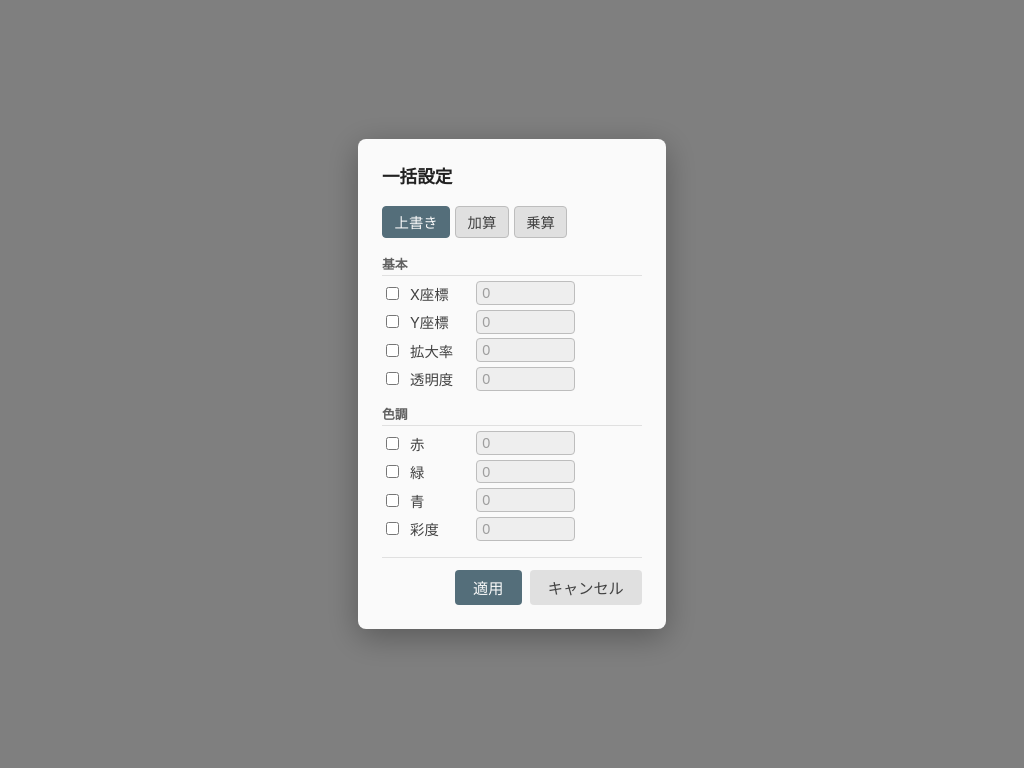
it: BulkConfigDialog › 加算に切り替えると入力値が全て 0 になる
Click the button "乗算". click: (540, 222)
box: [514,206,567,238]
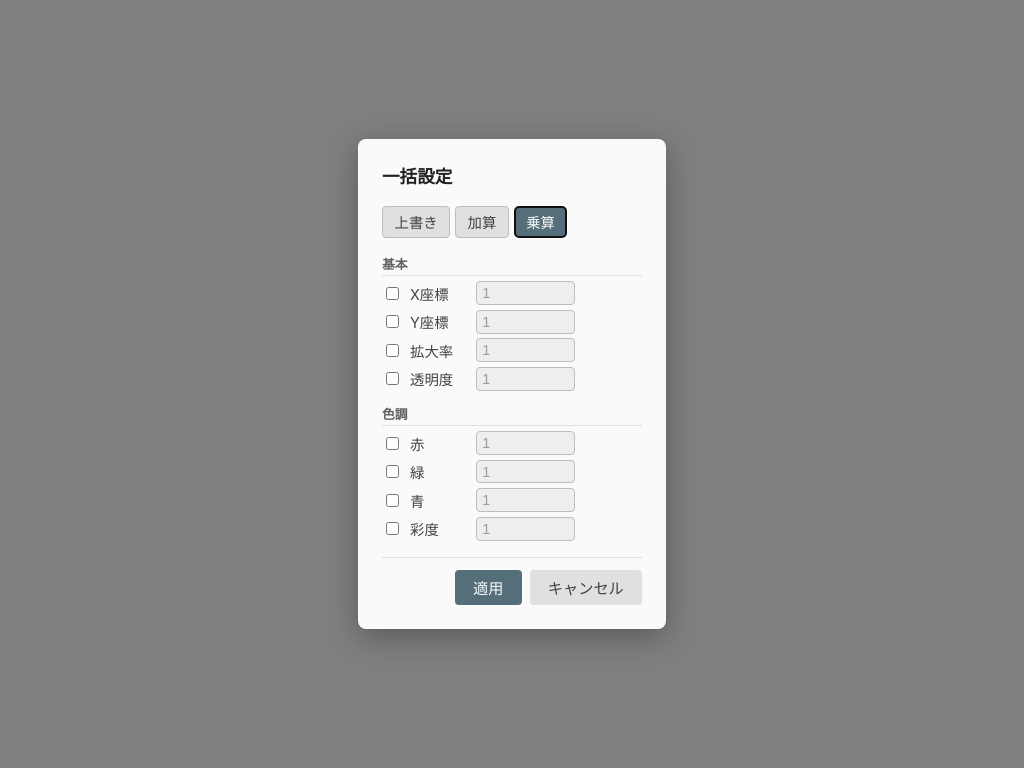
Click the button "加算". click: (482, 222)
box: [455,206,509,238]
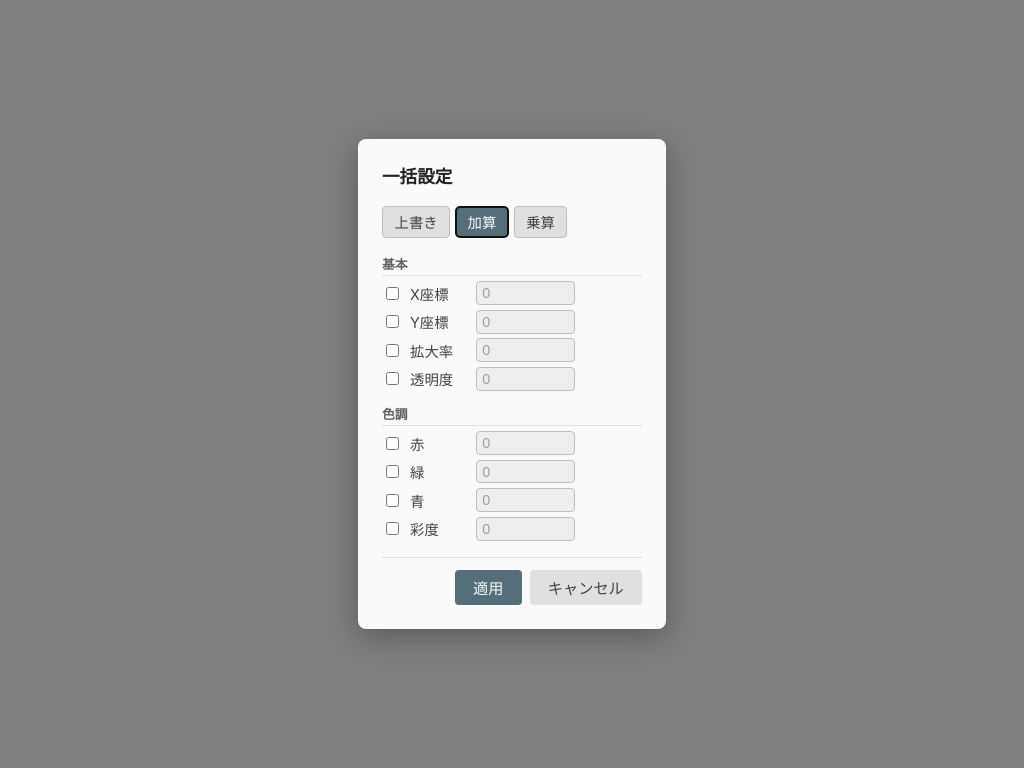
Expected: the number field next to "X座標" holds "0", [476,281,576,305]
Expected: the number field next to "Y座標" holds "0", [476,310,576,334]
Expected: the number field next to "拡大率" holds "0", [476,338,576,362]
